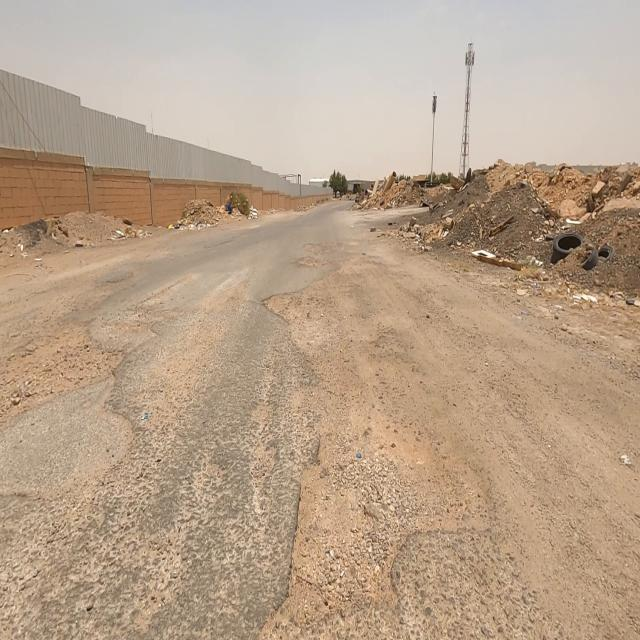Building: (263, 462, 413, 639), (266, 466, 410, 634), (0, 314, 126, 422), (0, 320, 124, 424)
